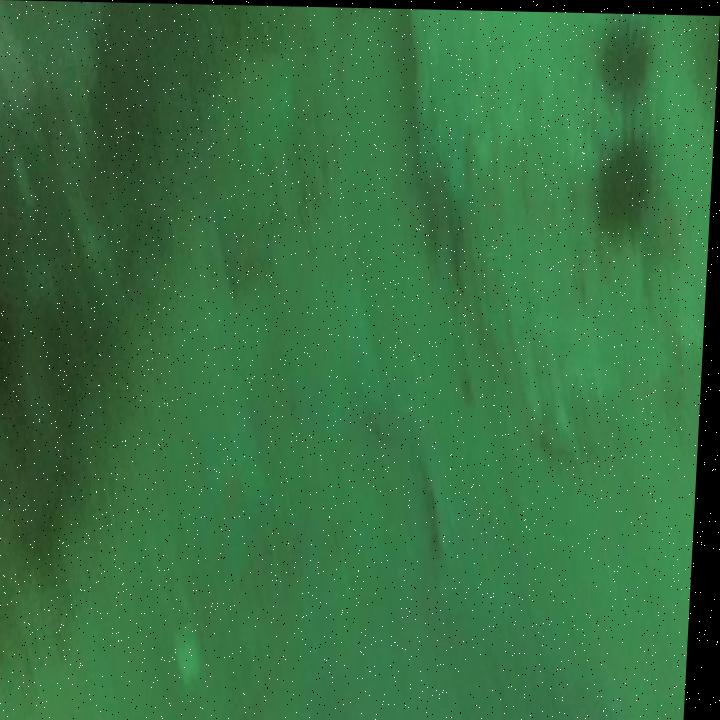echinus: (590, 99, 674, 243), (593, 16, 663, 107)
